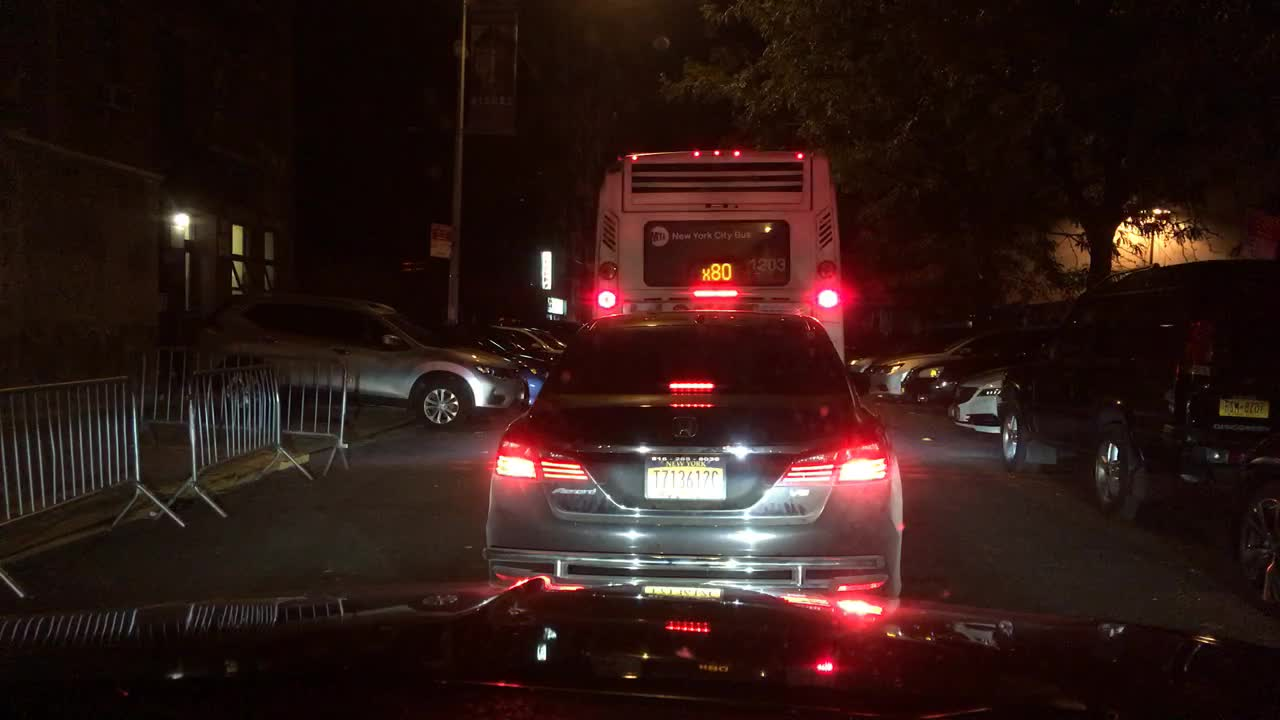bus: (584, 144, 850, 364)
car: (480, 312, 908, 603), (997, 255, 1280, 525), (199, 286, 532, 425), (900, 318, 1068, 408), (435, 321, 546, 410), (862, 321, 979, 399), (1231, 430, 1280, 614), (948, 355, 1045, 428), (481, 322, 556, 369), (847, 336, 896, 381), (520, 324, 564, 353), (543, 318, 579, 341)
traffic sign: (430, 221, 454, 256)
